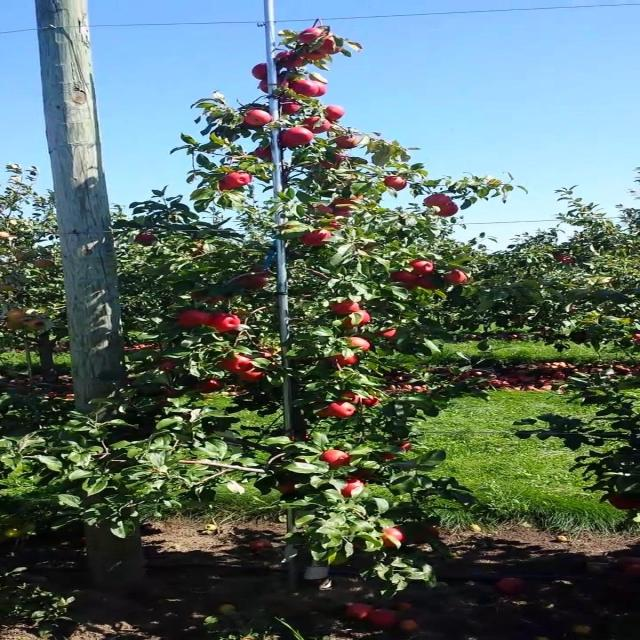apple: (284, 128, 313, 147), (220, 356, 254, 372), (340, 480, 368, 499), (177, 312, 210, 328), (412, 528, 441, 545), (212, 316, 242, 332), (276, 52, 306, 68), (319, 36, 343, 56), (390, 272, 420, 288), (262, 80, 292, 95), (326, 452, 354, 468), (191, 292, 228, 304), (383, 528, 405, 548), (333, 300, 361, 315), (611, 496, 639, 511), (298, 28, 324, 44), (305, 232, 332, 247), (248, 112, 274, 127), (227, 172, 254, 186), (319, 156, 348, 169), (397, 272, 420, 288), (383, 176, 407, 191), (291, 80, 313, 96), (348, 312, 370, 328), (305, 120, 332, 133), (241, 276, 270, 288), (333, 404, 356, 419), (412, 260, 434, 275), (426, 196, 452, 208), (333, 356, 361, 367), (340, 136, 363, 149), (440, 204, 462, 217), (305, 48, 327, 61), (333, 204, 354, 217), (419, 276, 437, 291), (312, 80, 327, 98), (447, 272, 469, 284), (326, 108, 348, 120), (348, 340, 370, 352), (198, 380, 220, 392), (248, 276, 270, 288), (305, 84, 327, 96), (291, 432, 313, 443), (255, 64, 270, 80), (241, 372, 265, 382), (340, 392, 361, 403), (333, 196, 356, 206), (163, 388, 183, 399), (362, 396, 380, 408), (276, 484, 299, 493), (255, 148, 272, 160), (6, 312, 28, 321), (220, 180, 236, 192), (284, 104, 300, 116), (333, 208, 354, 217), (163, 360, 178, 372), (319, 408, 334, 419), (326, 220, 341, 231), (134, 236, 156, 243), (355, 472, 373, 480), (376, 332, 398, 338), (348, 196, 363, 204), (319, 204, 332, 213), (262, 352, 277, 359), (383, 456, 398, 461)
